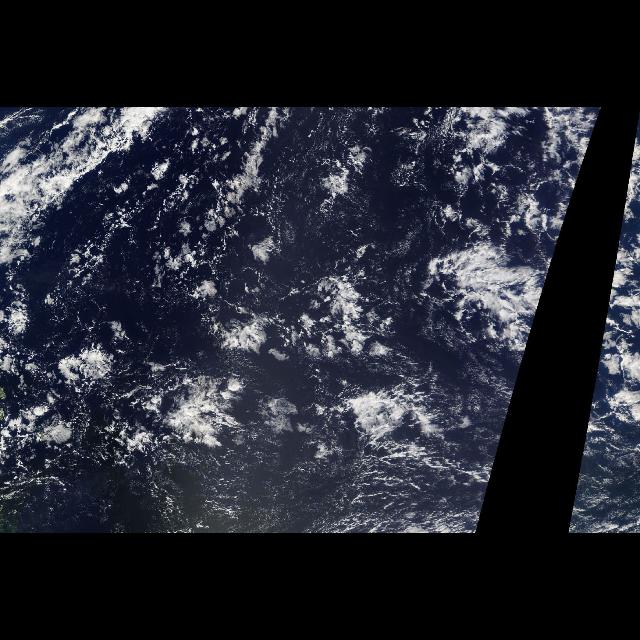Gravel: (116, 152, 448, 528)
Sugar: (149, 429, 505, 533), (566, 429, 640, 533)
